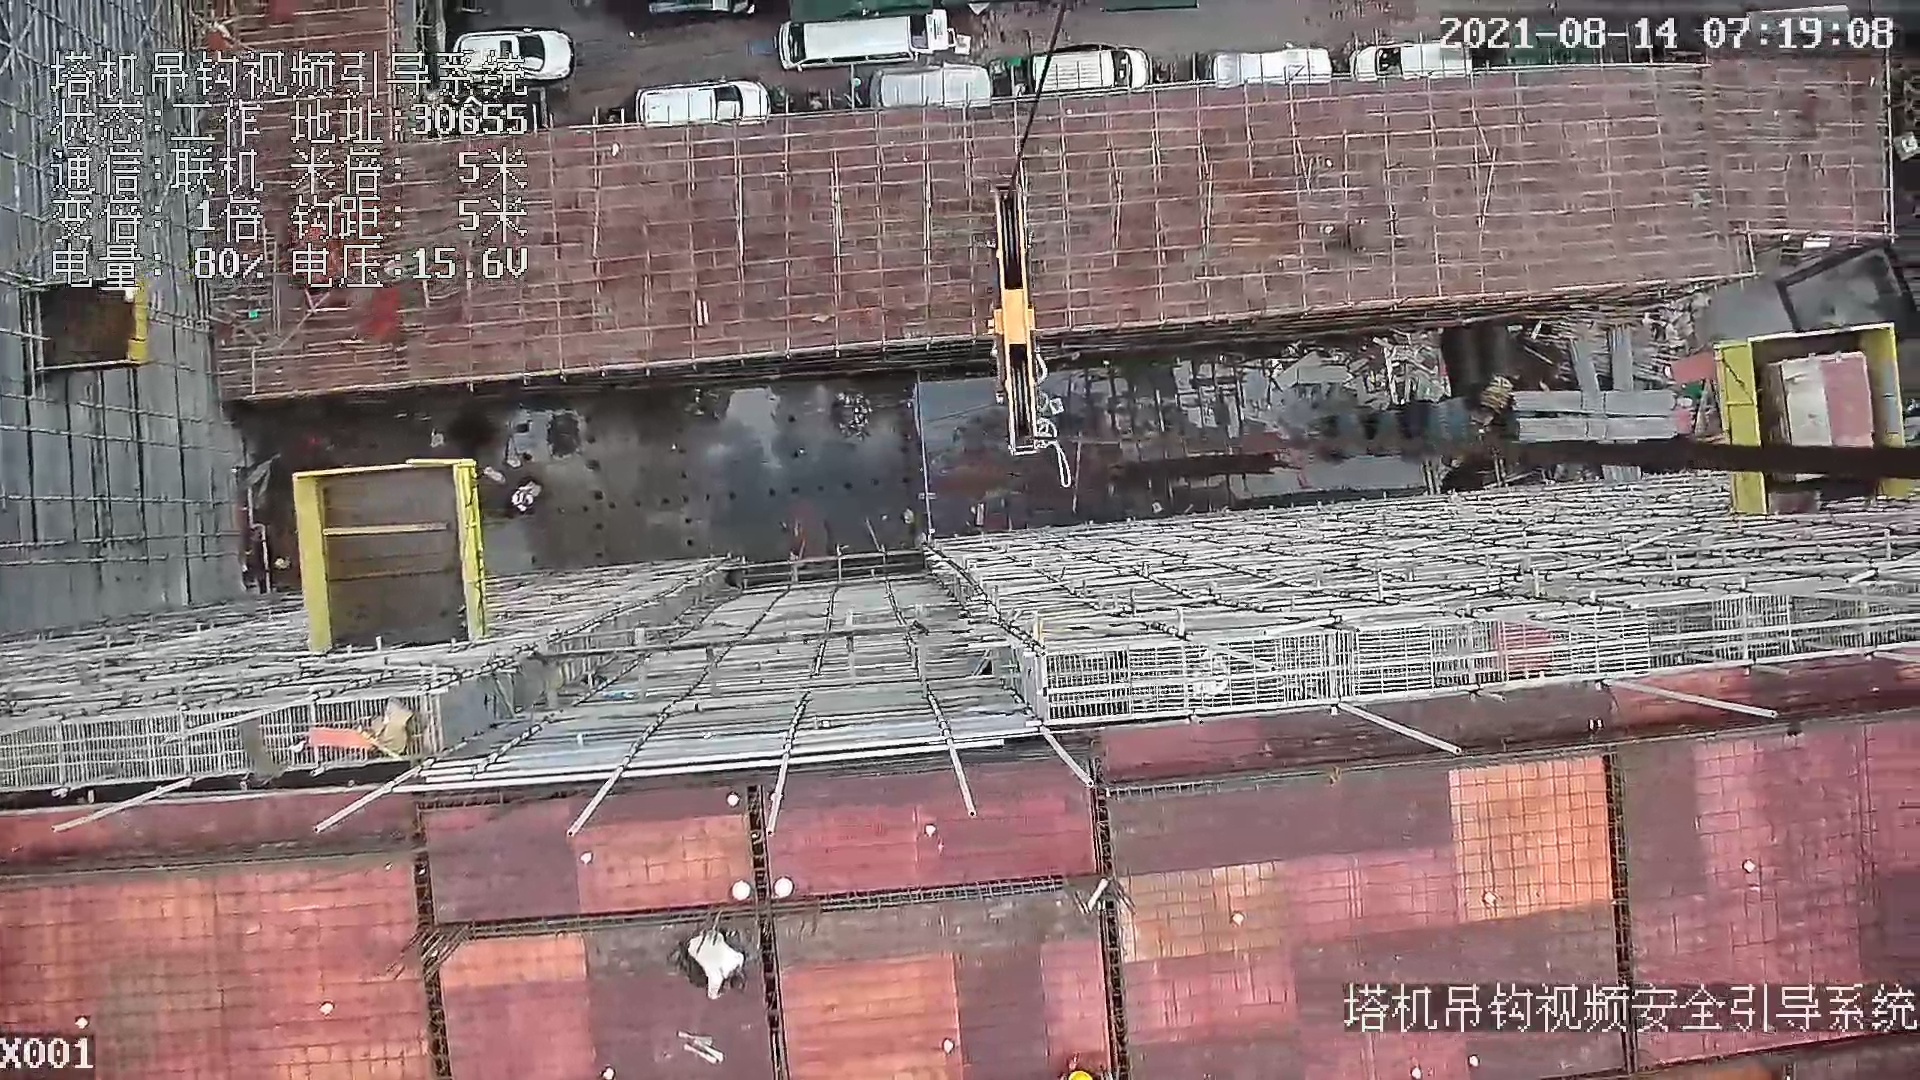hook: (970, 183, 1068, 462)
person: (668, 928, 762, 1010)
